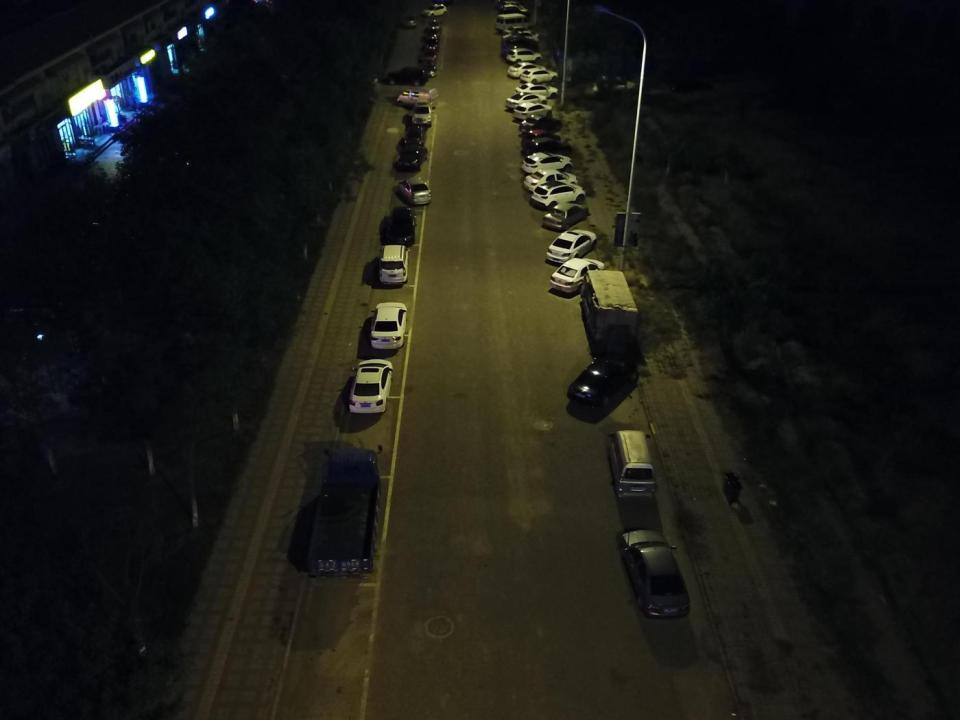car: (616, 526, 692, 622), (567, 351, 642, 408), (348, 358, 393, 417), (548, 256, 606, 296), (546, 224, 598, 267), (370, 301, 408, 352), (533, 182, 587, 210), (377, 242, 410, 287), (386, 201, 419, 245), (522, 168, 578, 192), (581, 74, 635, 97), (543, 202, 590, 228), (397, 174, 432, 206), (521, 151, 571, 173), (391, 144, 428, 171), (527, 137, 573, 158), (512, 82, 558, 100), (385, 68, 428, 87), (518, 116, 562, 134), (519, 65, 559, 84), (408, 99, 434, 125), (504, 62, 547, 77), (506, 92, 546, 108), (402, 124, 427, 148), (520, 131, 560, 146), (511, 102, 551, 117), (504, 36, 538, 52), (504, 31, 540, 46), (506, 49, 543, 63), (499, 4, 531, 19), (498, 1, 528, 14), (419, 58, 438, 76), (502, 26, 536, 36), (422, 4, 448, 17), (402, 14, 418, 29), (426, 36, 439, 51), (421, 48, 438, 59), (427, 28, 442, 39), (429, 19, 442, 29)
truck: (302, 443, 385, 577), (579, 267, 640, 353)
van: (608, 429, 658, 502), (394, 86, 440, 108), (494, 13, 534, 33)
